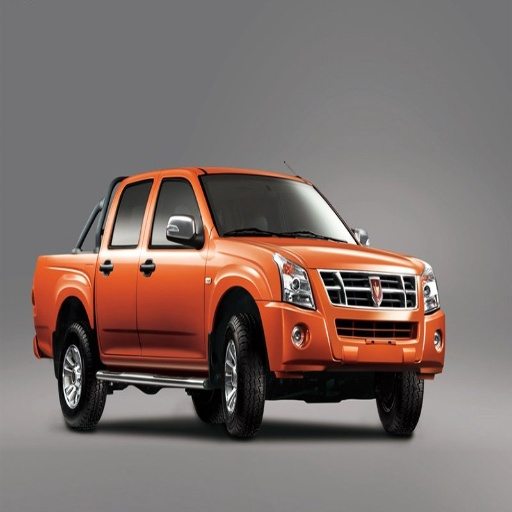front_bumper: (261, 270, 444, 374)
front_right_door: (138, 175, 206, 361)
front_right_light: (277, 257, 318, 310)
trunk: (36, 255, 89, 335)
